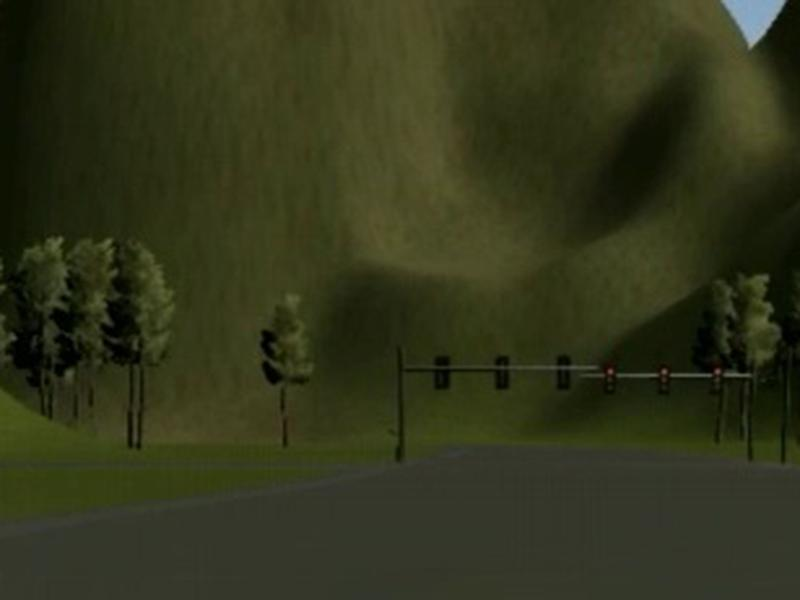Red: (659, 367, 670, 393), (712, 367, 722, 395), (605, 368, 615, 392)
